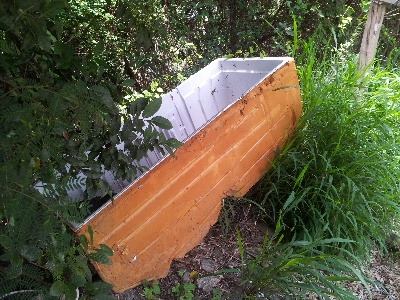box: (30, 56, 307, 294)
